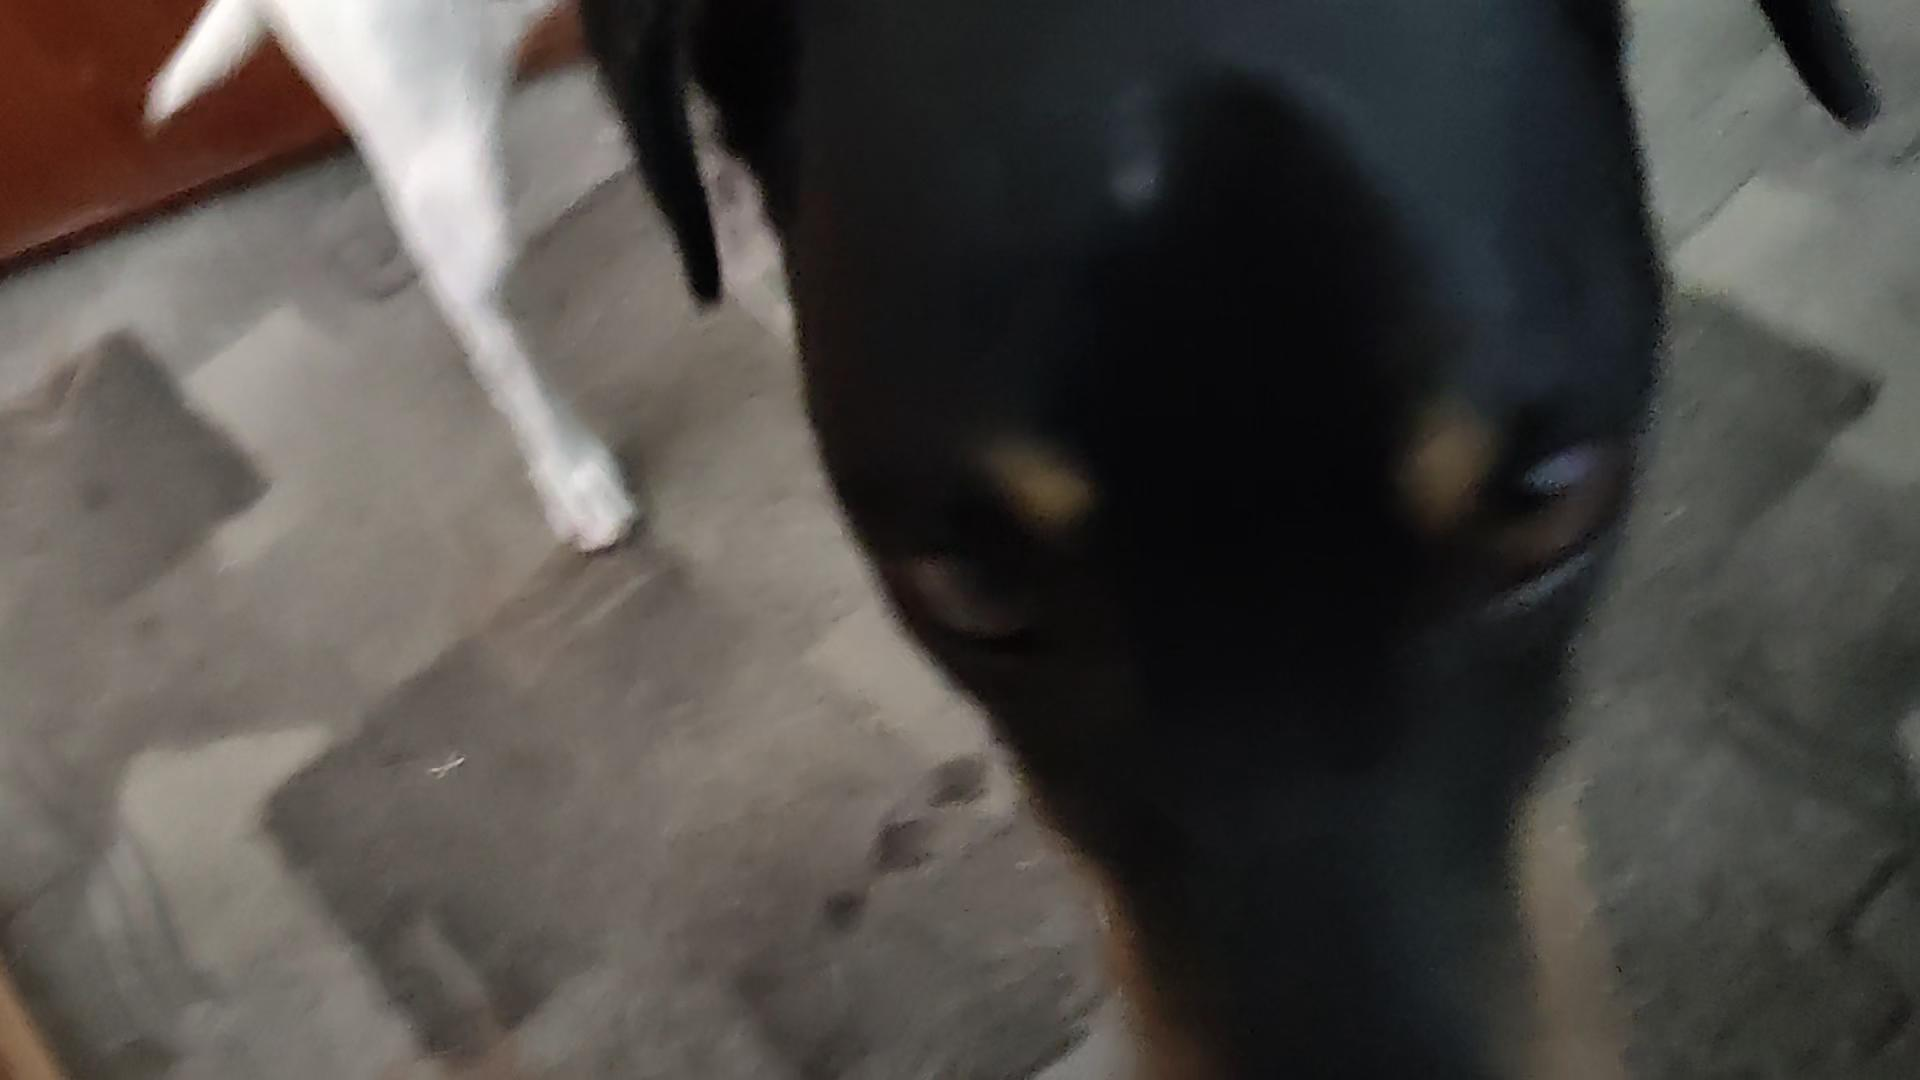Dog: (132, 0, 1880, 1080)
